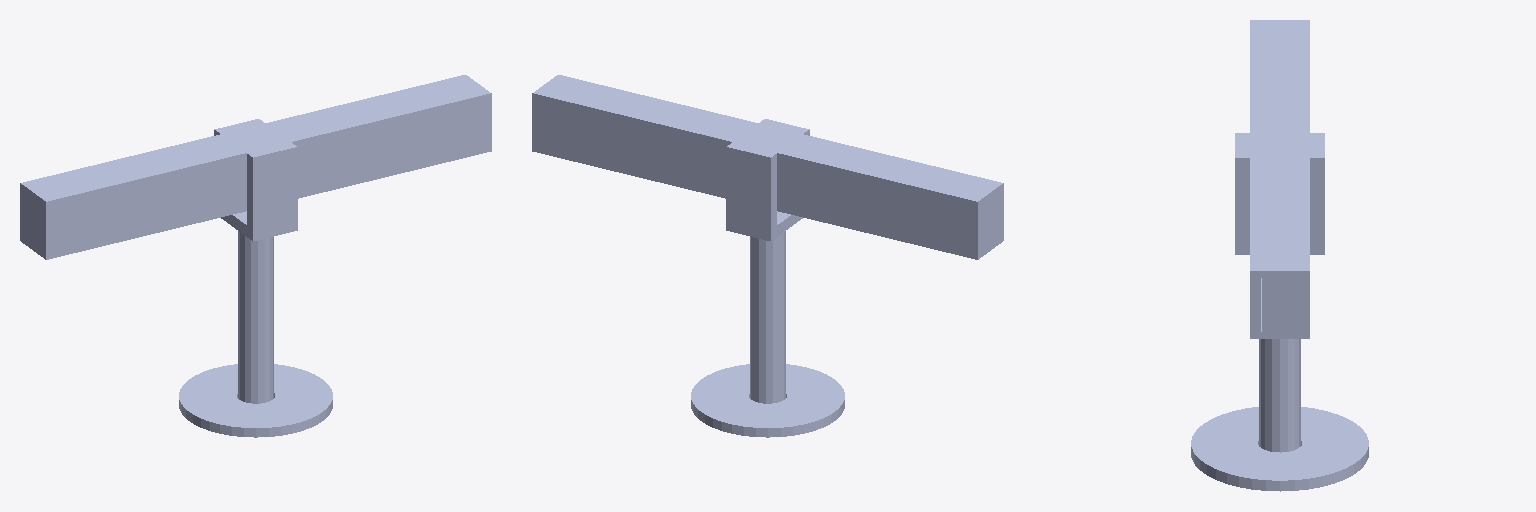
The robot description file, URDF, robot "my_robot":
<?xml version="1.0" encoding="utf-8"?>
<!-- This URDF was automatically created by SolidWorks to URDF Exporter! Originally created by Stephen Brawner (brawner@gmail.com) 
     Commit Version: 1.6.0-4-g7f85cfe  Build Version: 1.6.7995.38578
     For more information, please see http://wiki.ros.org/sw_urdf_exporter -->
<robot
  name="my_robot">
  <link
    name="base_link">
    <inertial>
      <origin
        xyz="-1.81197323910384E-18 -1.06778033332733E-17 0.00983870967741936"
        rpy="0 0 0" />
      <mass
        value="1.3695380474243" />
      <inertia
        ixx="0.00798224048922842"
        ixy="-8.86556739829567E-19"
        ixz="6.1729991419757E-19"
        iyy="0.00798224048922842"
        iyz="-1.31816359279126E-18"
        izz="0.0158732496978436" />
    </inertial>
    <visual>
      <origin
        xyz="0 0 0"
        rpy="0 0 0" />
      <geometry>
        <mesh
          filename="package://my_robot/meshes/base_link.STL" />
      </geometry>
      <material
        name="">
        <color
          rgba="0.792156862745098 0.819607843137255 0.933333333333333 1" />
      </material>
    </visual>
    <collision>
      <origin
        xyz="0 0 0"
        rpy="0 0 0" />
      <geometry>
        <mesh
          filename="package://my_robot/meshes/base_link.STL" />
      </geometry>
    </collision>
  </link>
  <link
    name="joint_1_link">
    <inertial>
      <origin
        xyz="-5.86783648976754E-17 -2.96425226629435E-19 -0.191575665323619"
        rpy="0 0 0" />
      <mass
        value="2.74003858179813" />
      <inertia
        ixx="0.0777624850691794"
        ixy="-1.16823868514941E-18"
        ixz="1.53139540976335E-17"
        iyy="0.0748440805695645"
        iyz="2.37645930456412E-19"
        izz="0.00578039173555455" />
    </inertial>
    <visual>
      <origin
        xyz="0 0 -0.51"
        rpy="0 0 0" />
      <geometry>
        <mesh
          filename="package://my_robot/meshes/joint_1_link.STL" />
      </geometry>
      <material
        name="">
        <color
          rgba="0.792156862745098 0.819607843137255 0.933333333333333 1" />
      </material>
    </visual>
    <collision>
      <origin
        xyz="0 0 -0.51"
        rpy="0 0 0" />
      <geometry>
        <mesh
          filename="package://my_robot/meshes/joint_1_link.STL" />
      </geometry>
    </collision>
  </link>
  <joint
    name="joint_1_joint"
    type="revolute">
    <origin
      xyz="0 0 0.51"
      rpy="0 0 0" />
    <parent
      link="base_link" />
    <child
      link="joint_1_link" />
    <axis
      xyz="0 0 1" />
    <limit
      lower="-1.5708"
      upper="1.5708"
      effort="0"
      velocity="0" />
  </joint>
  <link
    name="joint_2_link">
    <inertial>
      <origin
        xyz="0 0.0794258655611038 0"
        rpy="0 0 -1.5707963267948966" />
      <mass
        value="9.82047843595602" />
      <inertia
        ixx="0.0234845916044866"
        ixy="-9.92795510805739E-17"
        ixz="-1.1000284564657E-16"
        iyy="0.720423041466823"
        iyz="-3.52502942241728E-18"
        izz="0.725137070966438" />
    </inertial>
    <visual>
      <origin
        xyz="0 0 0"
        rpy="0 0 -1.5707963267948966" />
      <geometry>
        <mesh
          filename="package://my_robot/meshes/joint_2_link.STL" />
      </geometry>
      <material
        name="">
        <color
          rgba="0.792156862745098 0.819607843137255 0.933333333333333 1" />
      </material>
    </visual>
    <collision>
      <origin
        xyz="0 0 0"
        rpy="0 0 -1.5707963267948966" />
      <geometry>
        <mesh
          filename="package://my_robot/meshes/joint_2_link.STL" />
      </geometry>
    </collision>
  </link>
  <joint
    name="joint_2_joint"
    type="revolute">
    <origin
      xyz="0 0 0"
      rpy="0 -1.5707963267948966 1.5707963267948966" />
    <parent
      link="joint_1_link" />
    <child
      link="joint_2_link" />
    <axis
      xyz="0 0 1" />
    <limit
      lower="-1.5708"
      upper="1.5708"
      effort="0"
      velocity="0" />
  </joint>
  <link
    name="joint_3_link">
    <inertial>
      <origin
        xyz="-0.00155144612945679 5.50011522503332E-17 0.200012035649747"
        rpy="0 0 0" />
      <mass
        value="2.6" />
      <inertia
        ixx="0.0355820833333334"
        ixy="5.06484326600204E-19"
        ixz="-7.81385951313209E-18"
        iyy="0.0368333333333334"
        iyz="-9.06836960847321E-18"
        izz="0.00308208333333334" />
    </inertial>
    <visual>
      <origin
        xyz="0 0 0"
        rpy="0 0 0" />
      <geometry>
        <mesh
          filename="package://my_robot/meshes/joint_3_link.STL" />
      </geometry>
      <material
        name="">
        <color
          rgba="0.792156862745098 0.819607843137255 0.933333333333333 1" />
      </material>
    </visual>
    <collision>
      <origin
        xyz="0 0 0"
        rpy="0 0 0" />
      <geometry>
        <mesh
          filename="package://my_robot/meshes/joint_3_link.STL" />
      </geometry>
    </collision>
  </link>
  <joint
    name="joint_3_joint"
    type="prismatic">
    <origin
      xyz="0 -0.099988 -0.0015514"
      rpy="1.5707963267948966 0 0" />
    <parent
      link="joint_2_link" />
    <child
      link="joint_3_link" />
    <axis
      xyz="0 0 1" />
    <limit
      lower="0"
      upper="0.4"
      effort="0"
      velocity="0" />
  </joint>


  <link name="ee_link">
  </link>

  <joint name="ee_joint" type="fixed">
    <origin xyz="0 0 0.4" rpy="0 0 0"/>
    <parent link="joint_3_link"/>
    <child link="ee_link"/>
  </joint>
</robot>

--- Facts derived from the render (not from the file) ---
Views: 3 orthographic renders of the robot side by side, from view 1: azimuth 30°, elevation 25°; view 2: azimuth 150°, elevation 25°; view 3: azimuth 270°, elevation 25°.
Robot: my_robot — 5 links, 4 joints (2 revolute, 1 prismatic, 1 fixed); root link base_link; default pose: every joint at zero.
Visible links, largest first — view 1: joint_2_link, joint_1_link, base_link; view 2: joint_2_link, joint_1_link, base_link; view 3: joint_2_link, base_link, joint_1_link, joint_3_link.
Link boxes in pixels (<box>): joint_2_link: <box>20,75,491,259</box>; joint_1_link: <box>214,119,297,403</box>; base_link: <box>179,364,332,437</box>; joint_2_link: <box>532,75,1003,259</box>; joint_1_link: <box>726,119,809,403</box>; base_link: <box>691,364,844,437</box>; joint_2_link: <box>1250,20,1309,338</box>; base_link: <box>1191,407,1368,491</box>; joint_1_link: <box>1235,133,1324,452</box>; joint_3_link: <box>1262,278,1298,331</box>.
Bounding box of the posed robot: 1 × 0.2998 × 0.5725 m (x, y, z).
Meshes: 4 distinct files referenced, 4 mesh visuals loaded (4 binary STL).
